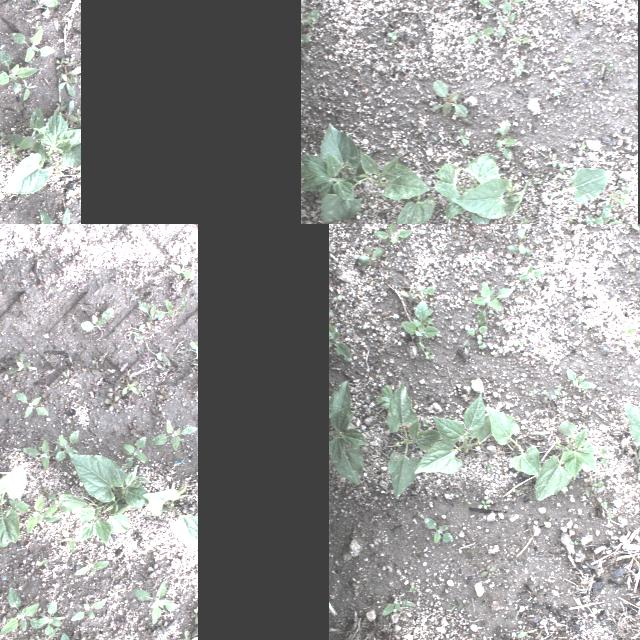crop: (301, 123, 434, 224), (61, 454, 148, 546), (4, 103, 80, 197), (414, 392, 501, 474), (433, 153, 531, 224), (386, 378, 439, 499), (536, 421, 602, 502), (328, 380, 368, 486), (486, 408, 542, 476), (147, 486, 198, 548), (547, 168, 615, 202), (0, 465, 27, 549), (134, 578, 178, 624), (9, 492, 61, 530), (0, 587, 42, 634), (148, 416, 198, 450), (624, 402, 640, 488), (37, 598, 64, 634), (16, 389, 46, 419), (22, 439, 50, 469), (78, 310, 114, 332), (70, 600, 106, 620), (56, 430, 78, 462), (124, 438, 146, 468), (138, 300, 164, 322), (74, 561, 110, 575), (170, 261, 196, 279), (166, 298, 188, 318), (23, 630, 59, 640)
weed: (0, 47, 40, 104), (401, 300, 439, 354), (471, 280, 513, 326), (8, 24, 56, 60), (429, 80, 467, 116), (0, 0, 60, 22), (20, 203, 77, 224), (494, 119, 518, 161), (329, 320, 353, 362), (58, 56, 80, 100), (424, 517, 454, 543), (585, 203, 622, 224), (373, 224, 411, 243), (376, 384, 402, 410), (382, 596, 414, 616), (567, 369, 597, 389), (358, 246, 384, 268), (468, 28, 494, 48), (610, 186, 632, 208), (7, 354, 31, 374), (520, 264, 544, 284), (542, 384, 562, 406), (510, 57, 530, 77), (498, 14, 516, 36), (412, 309, 434, 327), (60, 528, 76, 552), (501, 0, 527, 14), (300, 8, 318, 28), (596, 61, 614, 79), (514, 629, 538, 640), (513, 31, 533, 44), (122, 380, 140, 394), (187, 338, 198, 360), (507, 246, 531, 256), (454, 130, 468, 146), (564, 52, 578, 68), (106, 396, 120, 412), (621, 325, 635, 341), (592, 476, 604, 494), (467, 326, 488, 336), (598, 447, 608, 468), (558, 162, 574, 175), (518, 228, 526, 254), (480, 566, 496, 578), (134, 324, 144, 342), (400, 289, 418, 299), (106, 385, 120, 397), (146, 564, 158, 578), (420, 286, 434, 298), (62, 370, 72, 386), (606, 509, 614, 528), (385, 31, 397, 43), (28, 566, 38, 580), (460, 340, 470, 354), (478, 498, 490, 509), (550, 153, 558, 169), (514, 486, 530, 494), (621, 224, 639, 231), (131, 423, 141, 435), (154, 412, 164, 424), (152, 549, 164, 559), (581, 485, 591, 497), (450, 602, 460, 614), (75, 254, 89, 262), (579, 140, 585, 158), (300, 34, 310, 44), (598, 498, 608, 508), (148, 627, 156, 639), (179, 631, 189, 640), (552, 88, 562, 96), (534, 235, 542, 245), (516, 338, 524, 348), (407, 585, 417, 593), (516, 218, 529, 224), (123, 634, 136, 640), (157, 624, 166, 632), (476, 334, 482, 346), (193, 609, 198, 623), (424, 346, 431, 356), (528, 389, 538, 396), (519, 328, 527, 336), (499, 349, 509, 355), (534, 178, 542, 185), (350, 224, 364, 228), (478, 342, 487, 348), (568, 214, 574, 222), (332, 296, 340, 302), (426, 354, 434, 360), (486, 464, 492, 472), (584, 319, 590, 326), (456, 494, 462, 501), (38, 560, 48, 564), (515, 612, 519, 622), (328, 312, 334, 318), (422, 421, 428, 427), (537, 146, 545, 150), (612, 186, 620, 190), (437, 247, 445, 251), (564, 392, 568, 400), (464, 500, 472, 504), (621, 180, 625, 186), (462, 216, 468, 220), (582, 325, 588, 329), (519, 285, 523, 291), (518, 560, 522, 566), (569, 542, 579, 544), (301, 8, 305, 12), (358, 275, 362, 279), (550, 622, 554, 626), (550, 596, 552, 602), (145, 638, 150, 640), (625, 638, 630, 640)
